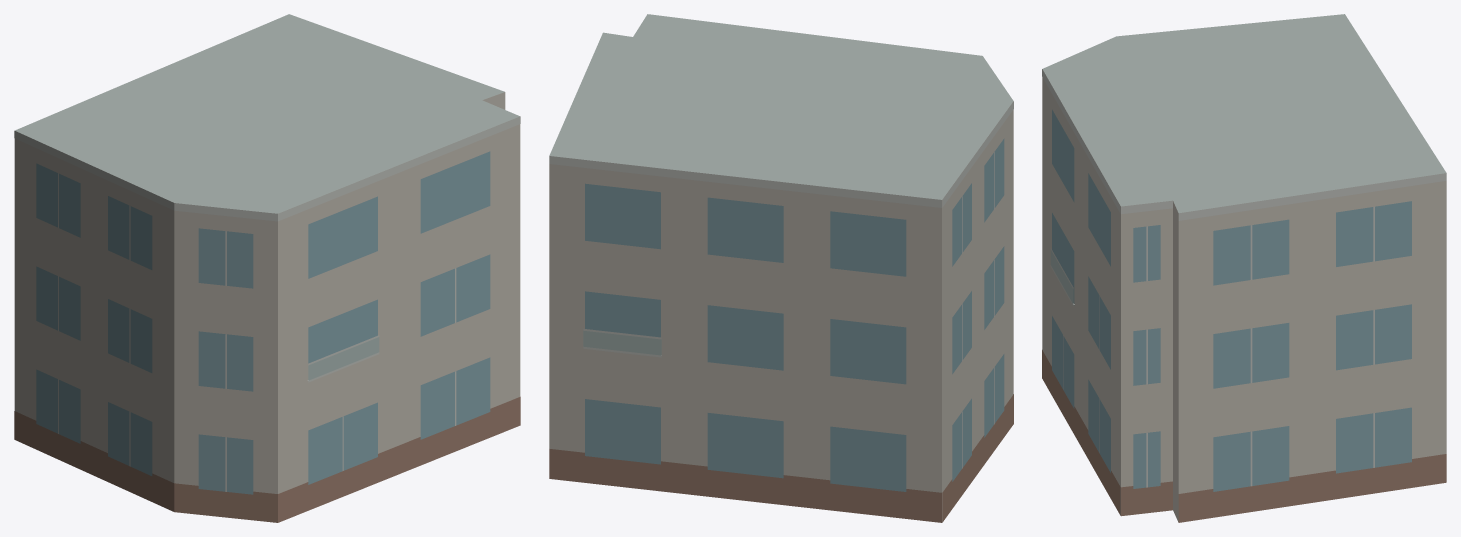
File: survey-upis-32661993.glb
3 renders of one model, left to right at view 1: azimuth 30°, elevation 25°; view 2: azimuth 150°, elevation 25°; view 3: azimuth 270°, elevation 25°, orthographic. The views are drawn at different scales.
Parts seen in each view (by area): view 1: survey-upis-32661993.tmp; view 2: survey-upis-32661993.tmp; view 3: survey-upis-32661993.tmp.
Boxes of the visible parts, box(x1,y1,x2,y2) form: survey-upis-32661993.tmp: box(14, 14, 520, 522); survey-upis-32661993.tmp: box(549, 14, 1013, 522); survey-upis-32661993.tmp: box(1042, 14, 1446, 522).
Bounding box in the file's own units: 13.54 × 9.8 × 11.61.
